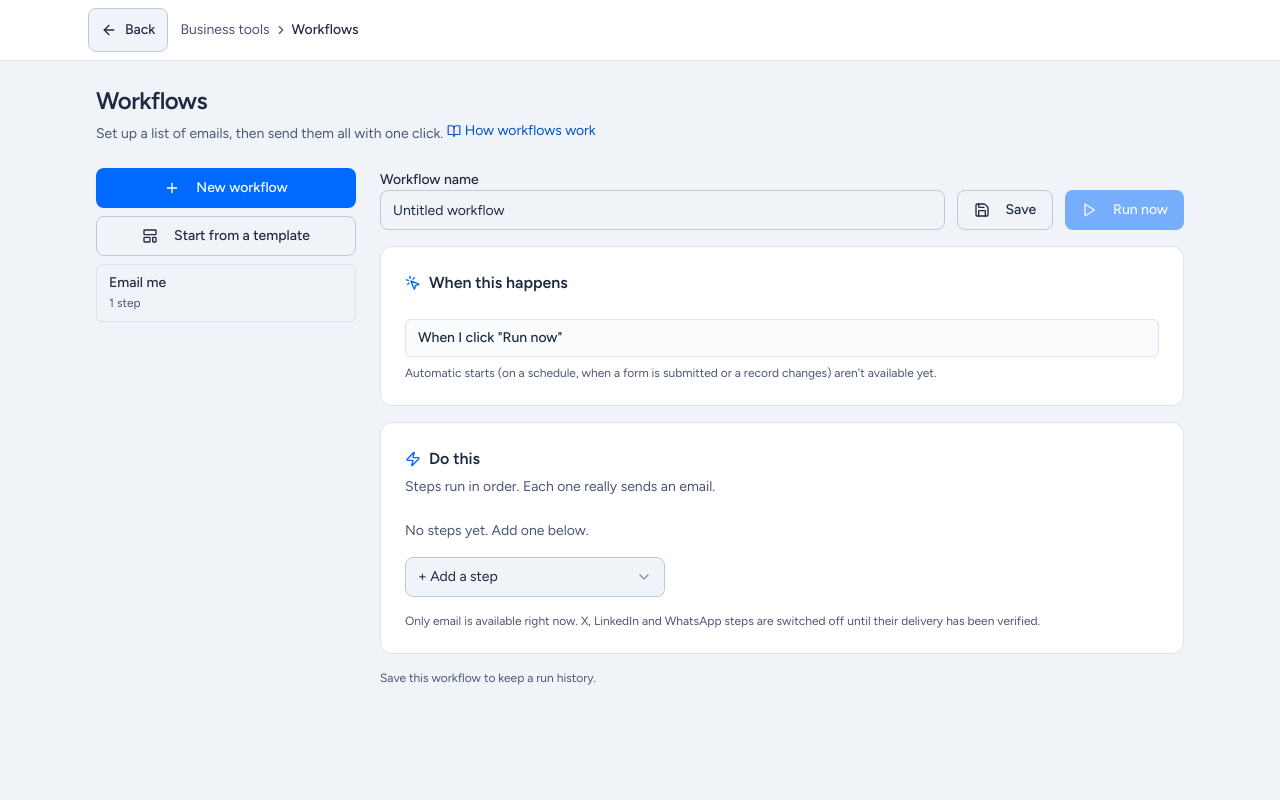
Test: Run history panel (Phase 15) › error state with retry
Click the button "Email me 1 step" at (138, 282), box [96,264,356,322]
(page scrolled)
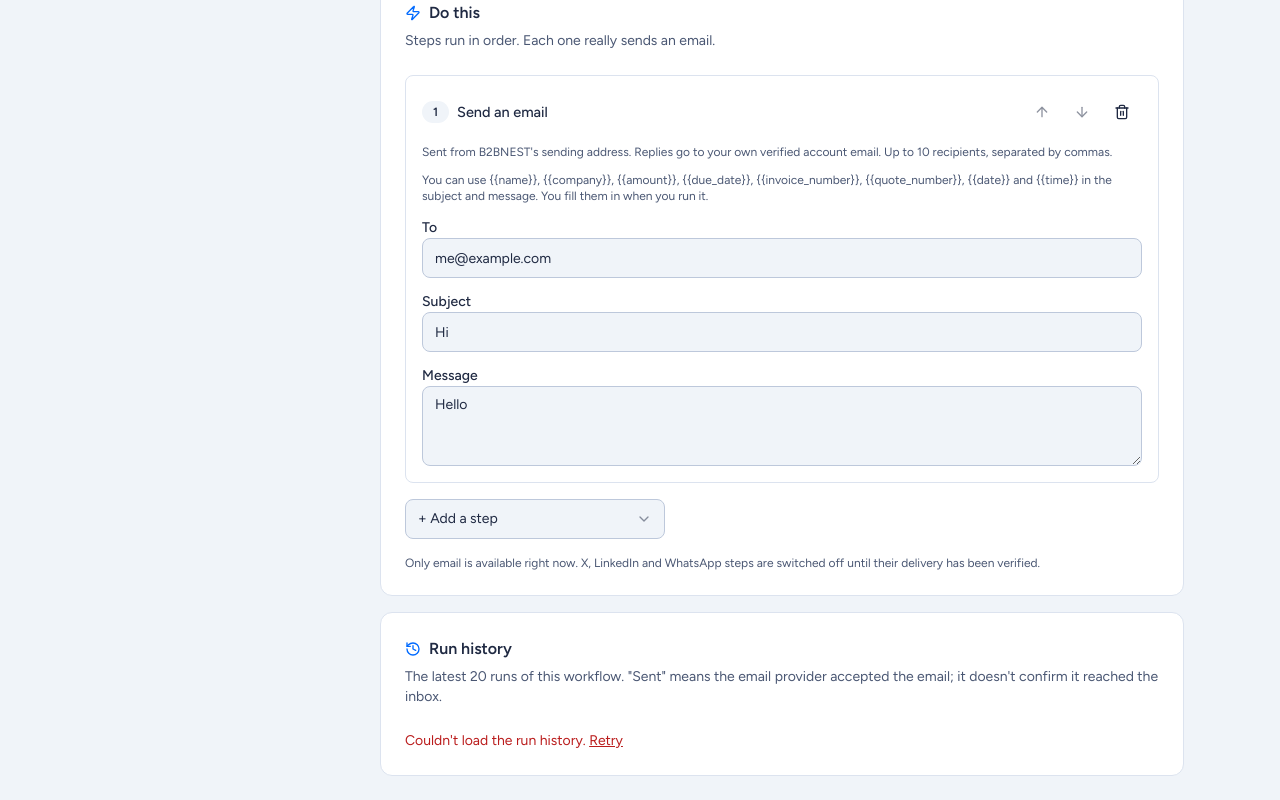
Now the text "Couldn't load the run history. Retry" is shown, box [405,731,623,751]
